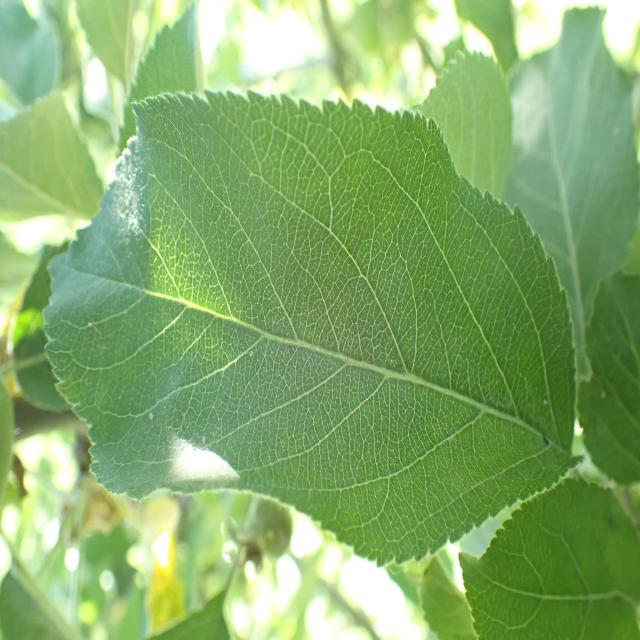healthy: (41, 86, 585, 566), (505, 4, 640, 385), (458, 474, 640, 640), (577, 270, 640, 487)
